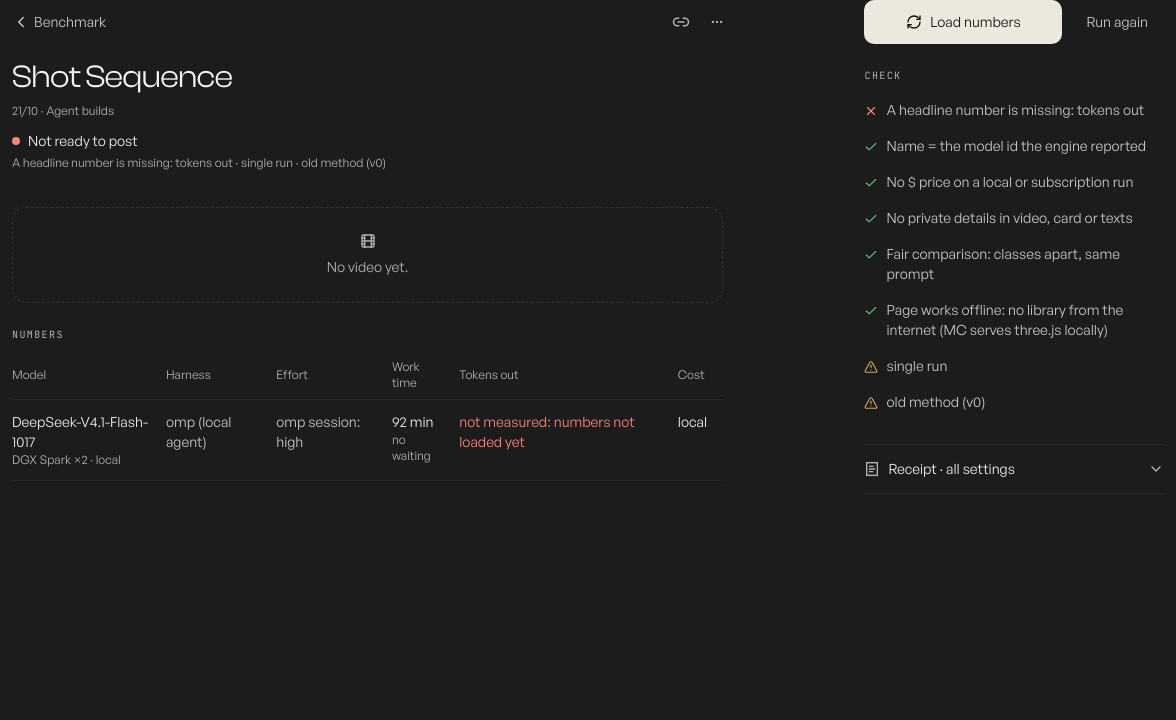
Scenario: ResultPage — red agent result (v0) › shows the class B receipt with v0 unknowns spelled out
What coordinates should you click on to do the following:
click the button "Receipt · all settings"
I would click on:
 (1014, 469)
Its box is [864,445,1164,493].
(page scrolled)
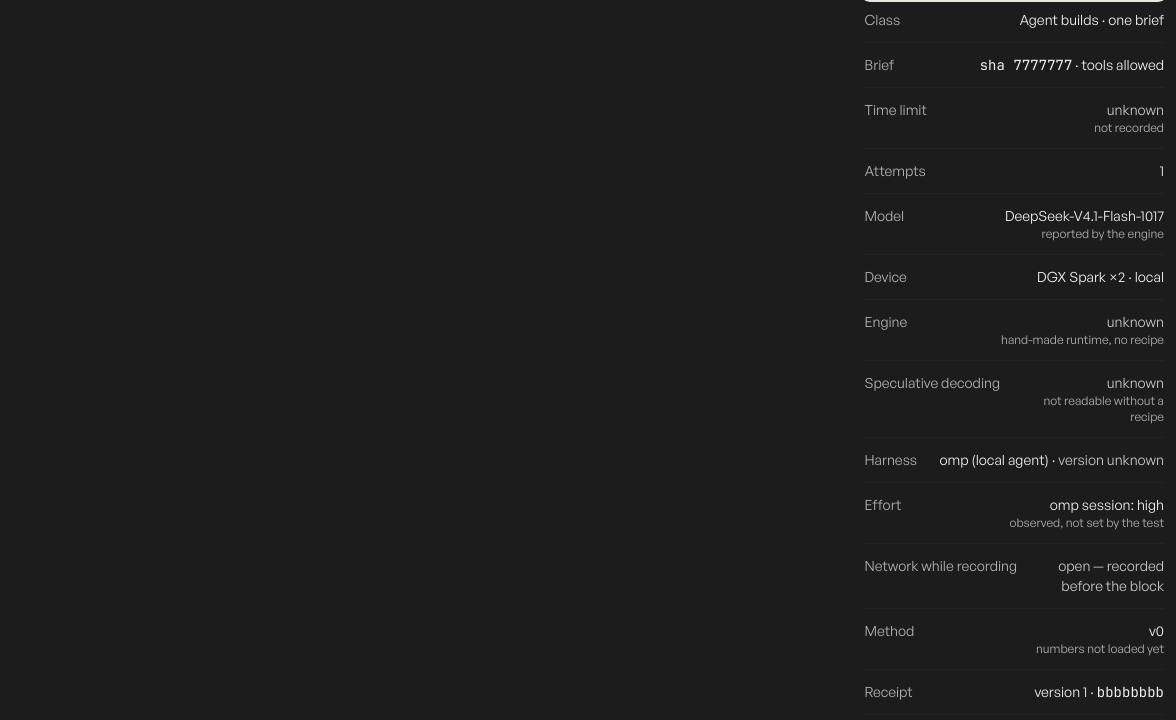
expect the element with test id "receipt-B" shows "Agent builds · one brief": met, box [1019,11,1164,28]
expect the element with test id "receipt-B" shows "Time limit": met, box [864,101,927,118]
expect the element with test id "receipt-B" shows "not recorded": met, box [1094,120,1164,135]
